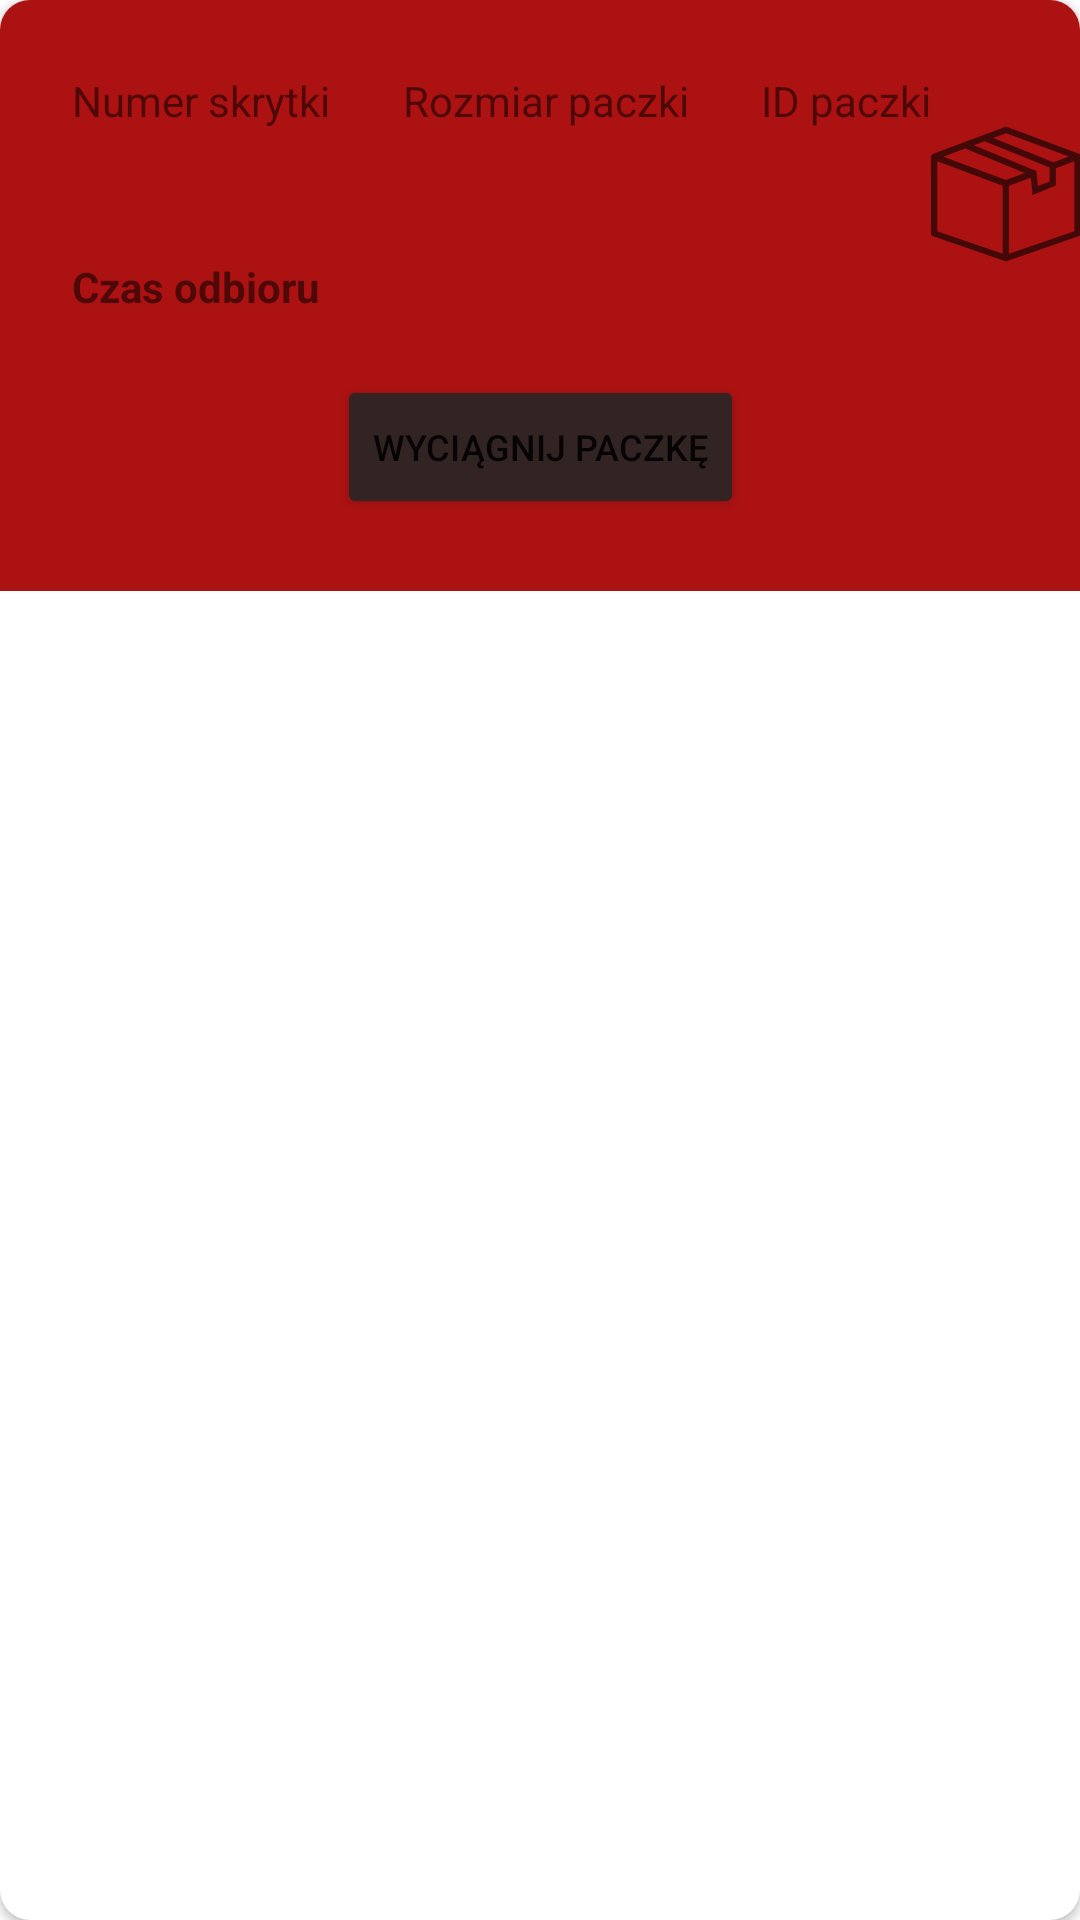

Locate icon controls on the screen. Image size 1080px x 1920px, boxes as region(x1, y1, x2, y2).
package: region(931, 126, 1080, 261)
